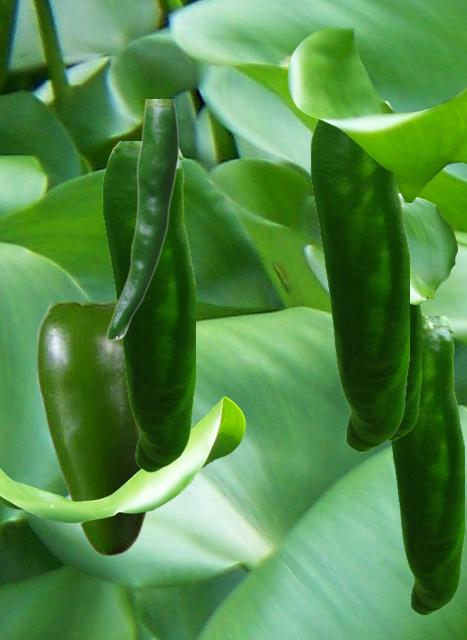green_chili: (310, 101, 408, 451), (102, 141, 194, 471), (37, 302, 150, 556), (389, 316, 463, 614), (105, 99, 177, 340), (390, 304, 420, 439)
